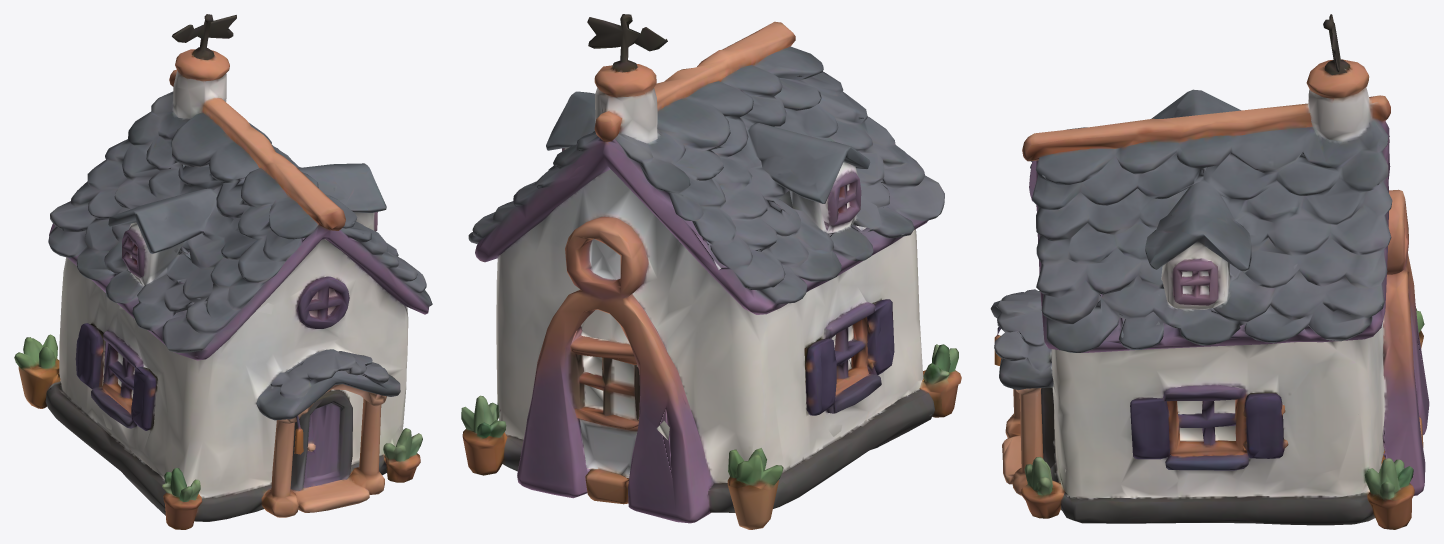
Rendered from kes-house.glb.
The picture shows the model from 3 angles, left to right: view 1: azimuth 30°, elevation 25°; view 2: azimuth 150°, elevation 25°; view 3: azimuth 270°, elevation 25°; orthographic projection. The views are drawn at different scales.
Size of the model in its own units: 5.1 by 6.6 by 5.8.
Materials: 1 (1 with a texture image).
